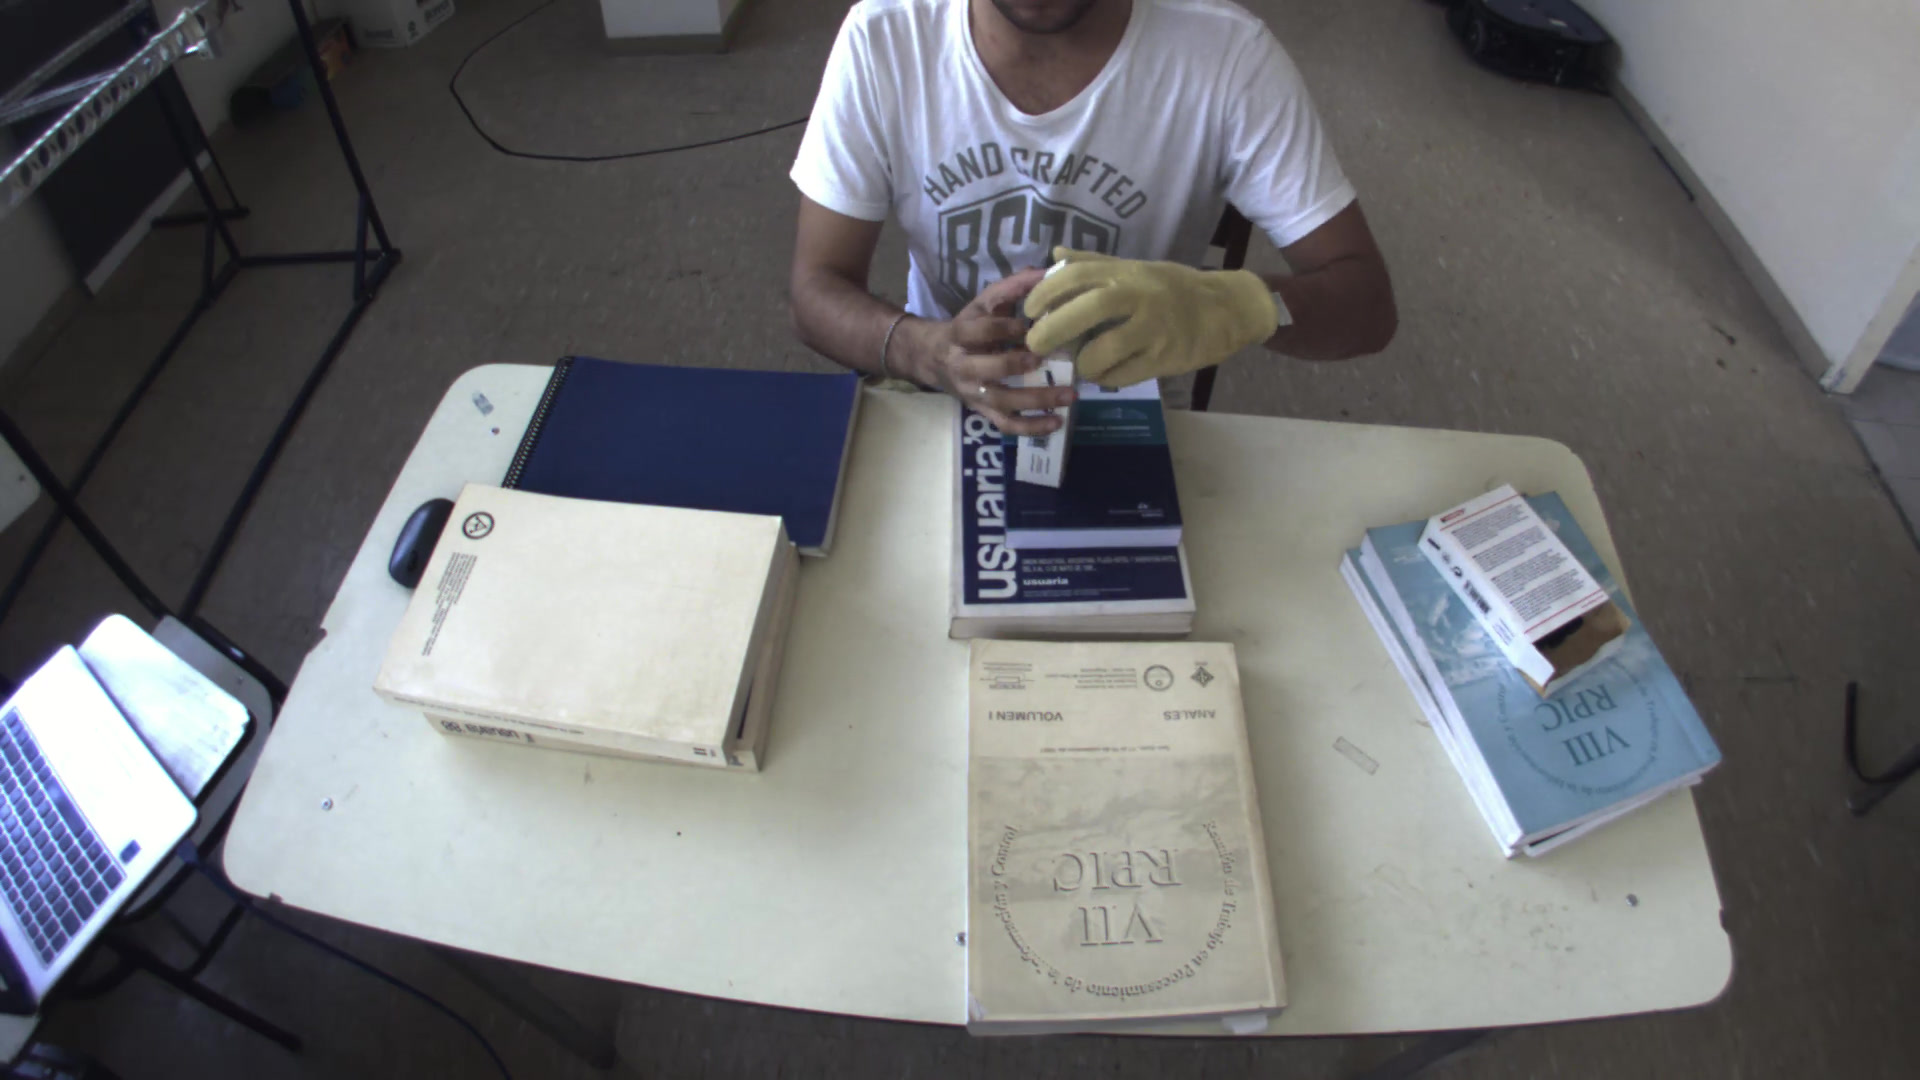hand: (1023, 228, 1298, 392), (895, 266, 1095, 447)
